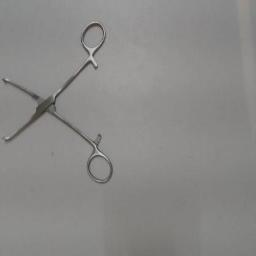Allis Tissue Forceps: (0, 16, 116, 190)
